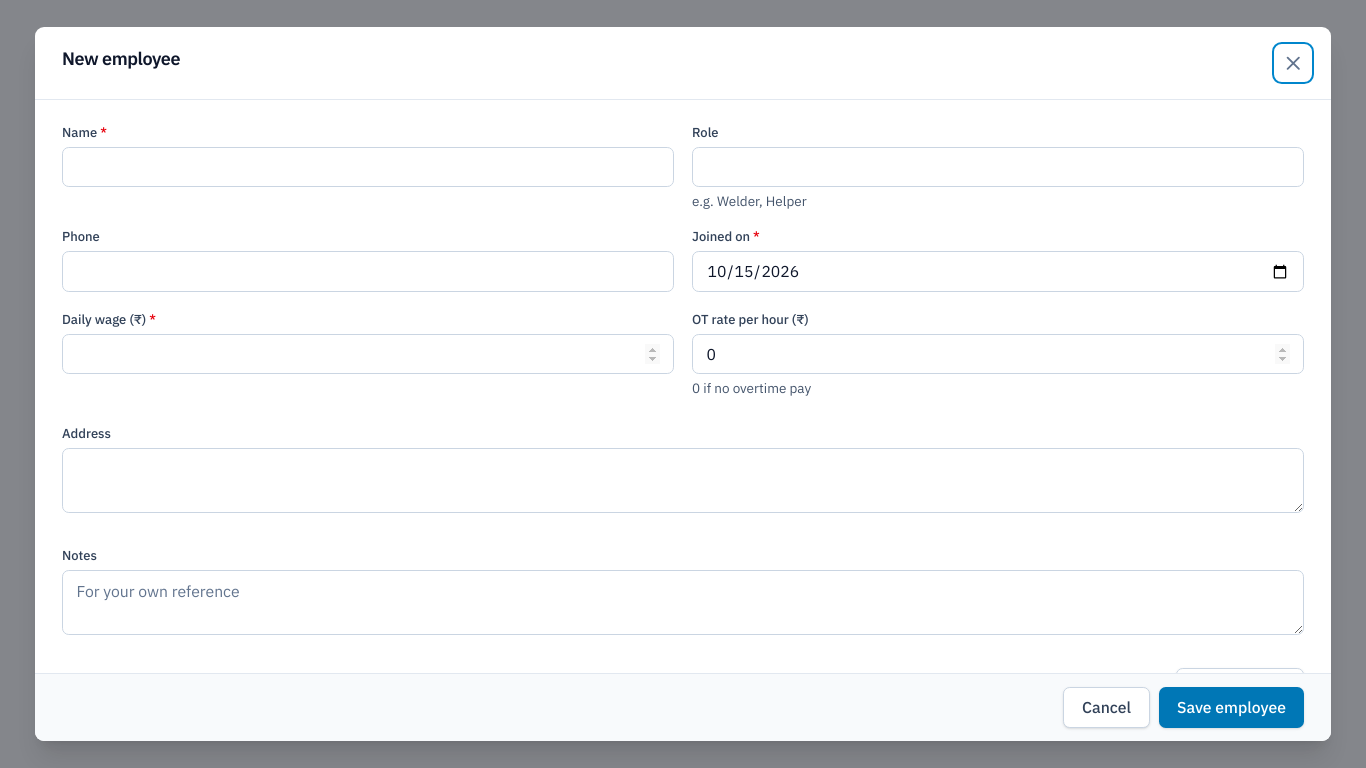
Test case: a new employee › refuses {"name":""}
Type "650" into the number field labelled "Daily wage". click: (368, 354)
box: [62,334,674,374]
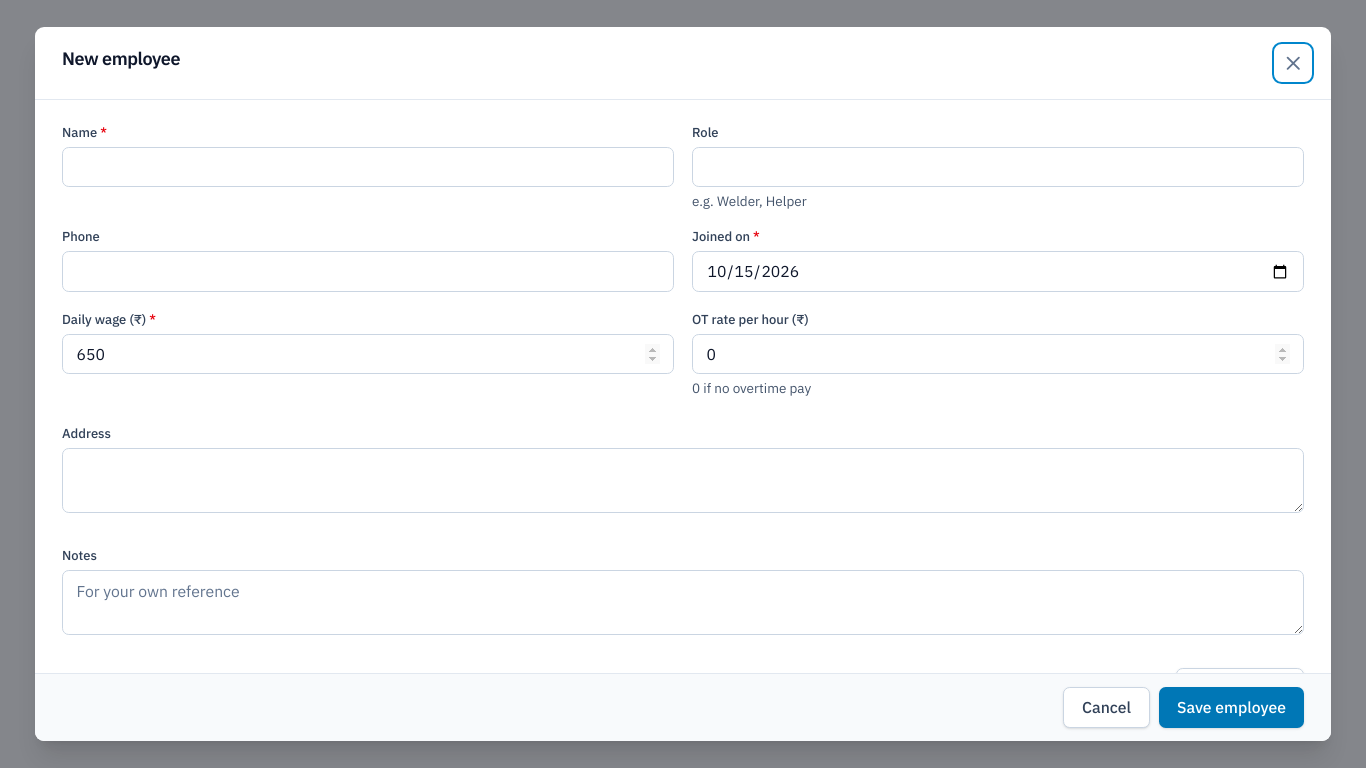
Click the button "Save employee". click: (1232, 707)
box: [1159,687,1304,728]
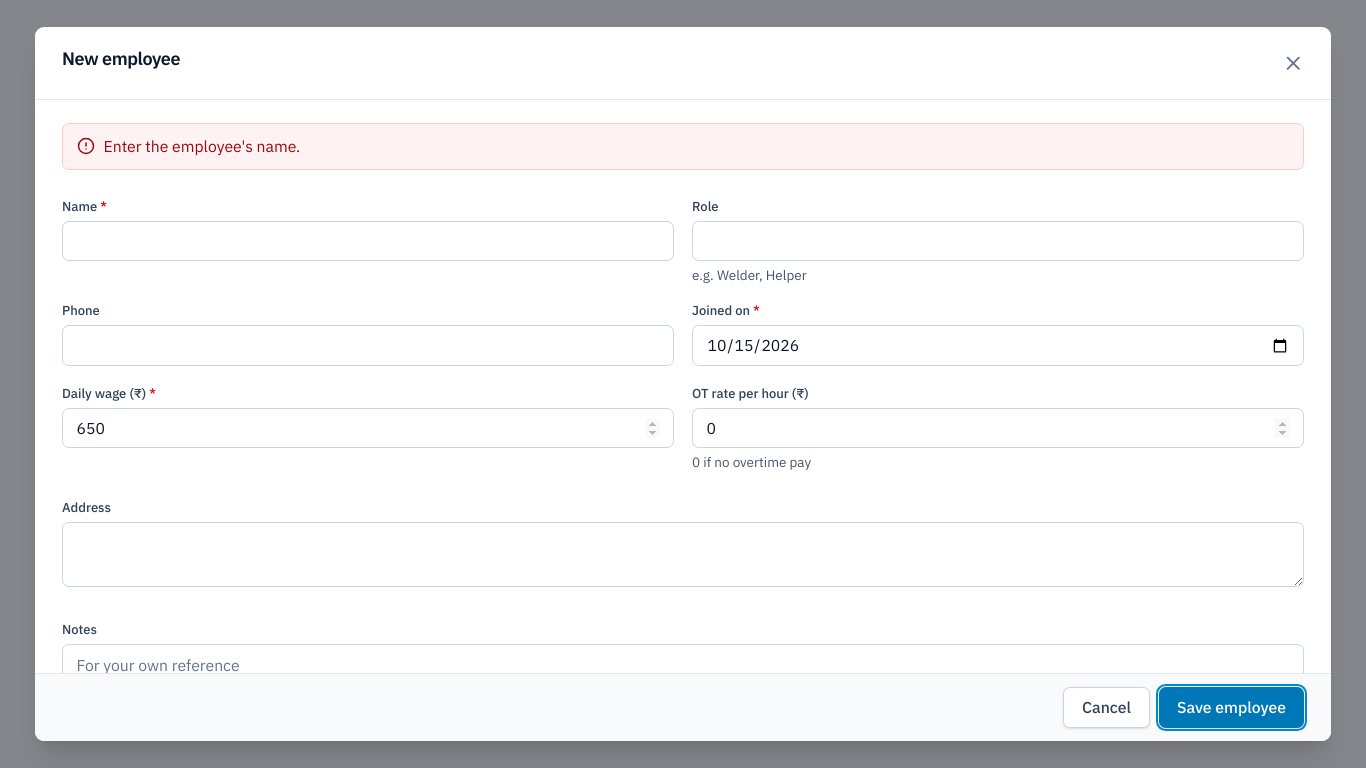
expect the message reads "Enter the employee's name.": met, box [104,136,300,156]
